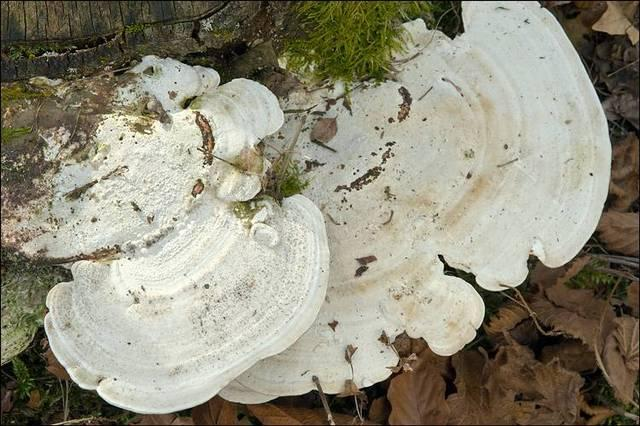poisonous_mushroom: (22, 5, 610, 414)
